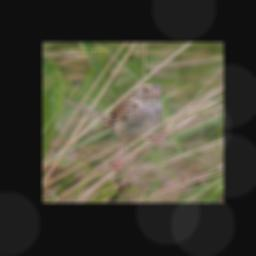Sparrow: (67, 83, 167, 175)
